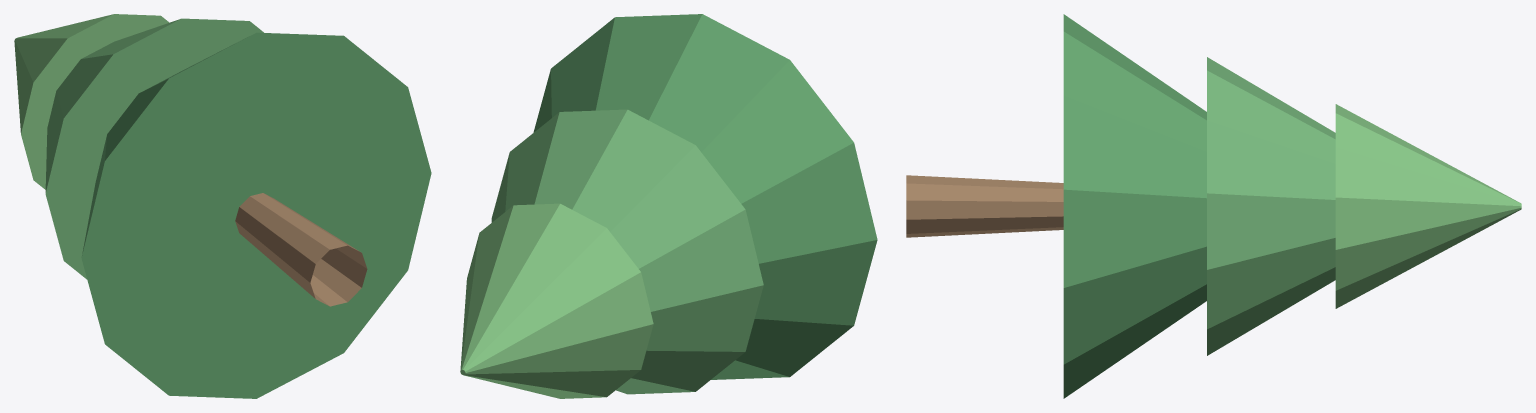
Rendered from pine_tree.glb.
3 views of the same model, side by side, from view 1: azimuth 30°, elevation 25°; view 2: azimuth 150°, elevation 25°; view 3: azimuth 270°, elevation 25° (orthographic). The views are drawn at different scales.
Parts seen in each view (by area): view 1: pine_tree; view 2: pine_tree; view 3: pine_tree.
Part boxes in pixels (left/top/right/bottom): pine_tree: left=14, top=14, right=431, bottom=398; pine_tree: left=460, top=14, right=877, bottom=398; pine_tree: left=906, top=14, right=1521, bottom=398.
Bounding box in the file's own units: 2.7 × 2.7 × 4.3.
